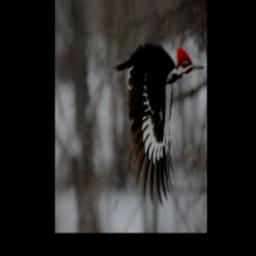Woodpecker: (114, 44, 204, 204)
